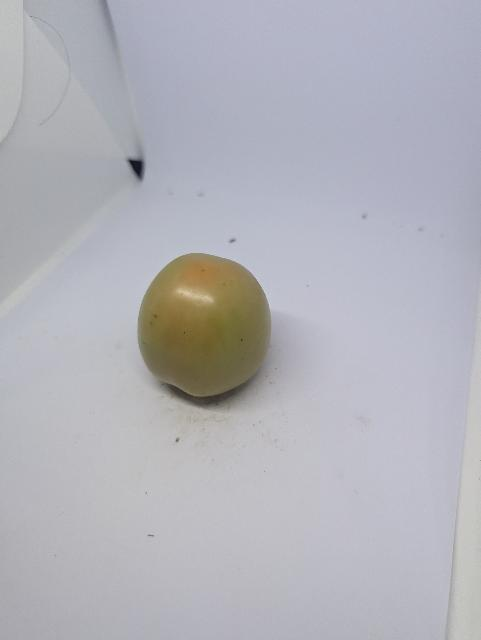breaker: (133, 249, 277, 404)
